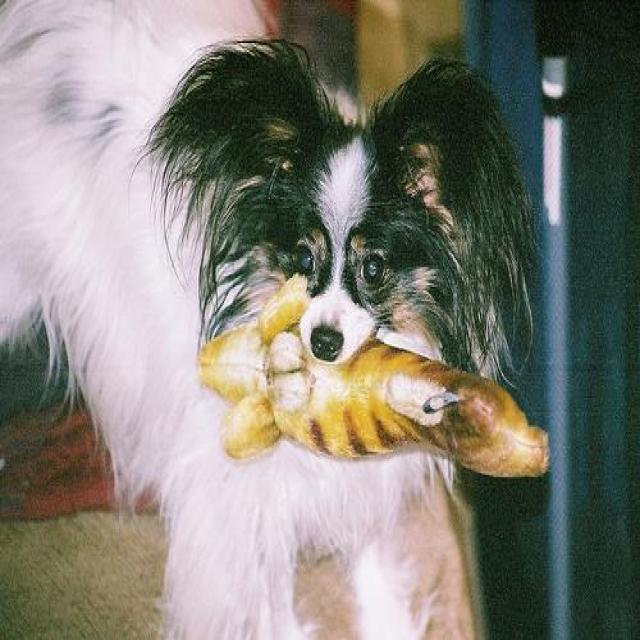papillon: (0, 0, 536, 638)
